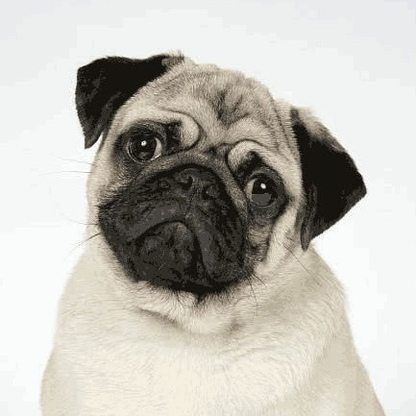Pug: (37, 42, 385, 416)
